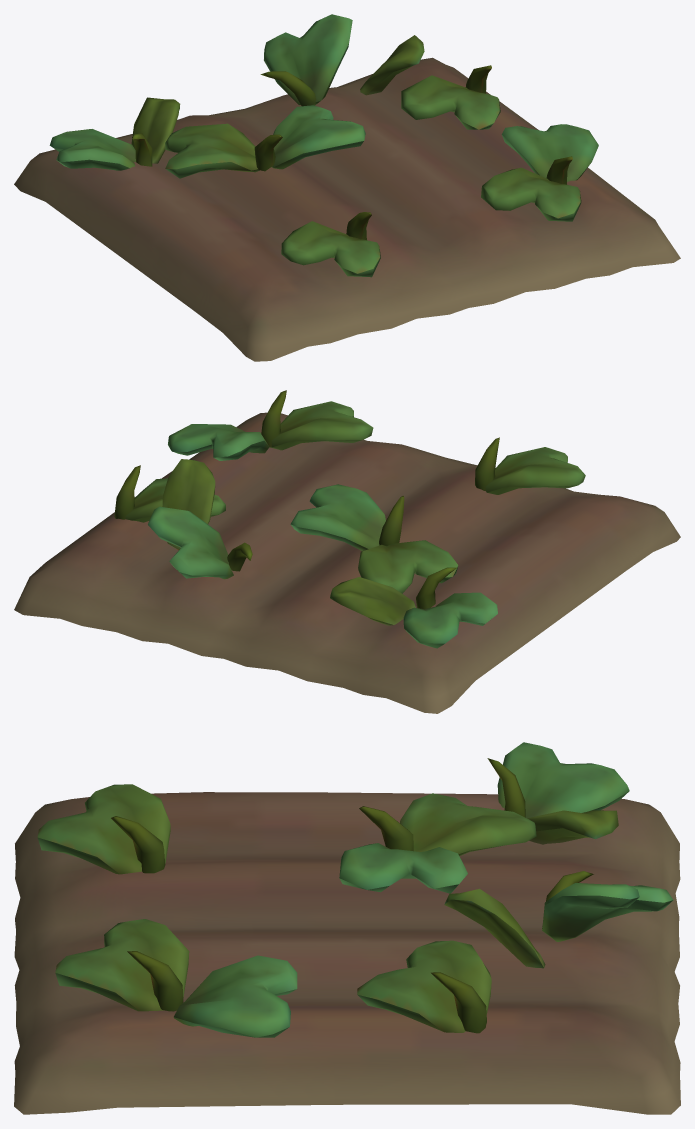
The model's file is SM_Crop_Pumpkin_01.glb.
3 views of the same model, one above another, from view 1: azimuth 30°, elevation 25°; view 2: azimuth 150°, elevation 25°; view 3: azimuth 270°, elevation 25° (orthographic). The views are drawn at different scales.
Visible parts, largest first — view 1: SM_Crop_Pumpkin_01; view 2: SM_Crop_Pumpkin_01; view 3: SM_Crop_Pumpkin_01.
Part boxes in pixels (x1,y1,x2,y2): SM_Crop_Pumpkin_01: (14, 14, 680, 361); SM_Crop_Pumpkin_01: (14, 390, 680, 713); SM_Crop_Pumpkin_01: (14, 742, 680, 1114).
Bounding box in the file's own units: 3.97 × 1.06 × 3.94.
1 material, 1 textured.
